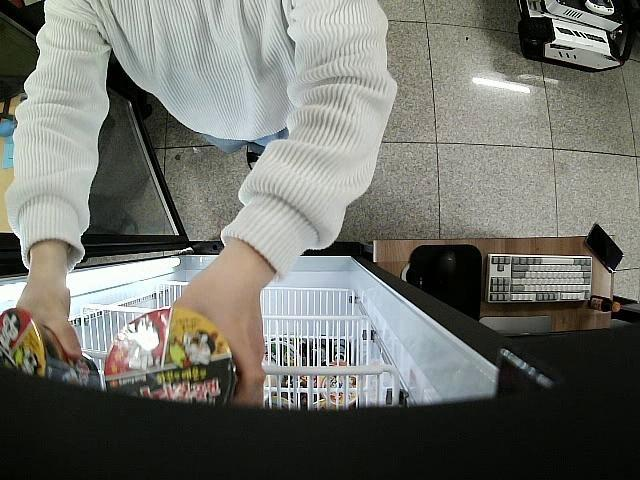08_buldak_S: (107, 308, 238, 414), (2, 308, 98, 396)
